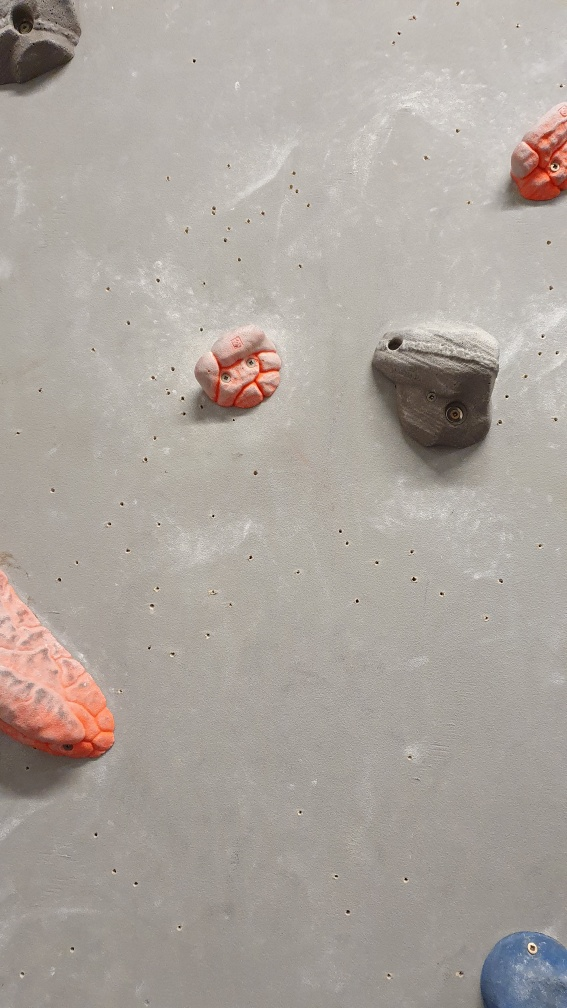Jug: (192, 322, 287, 414), (505, 98, 567, 205)
Pinch: (1, 560, 120, 763)
Sloper: (476, 927, 567, 1007)
